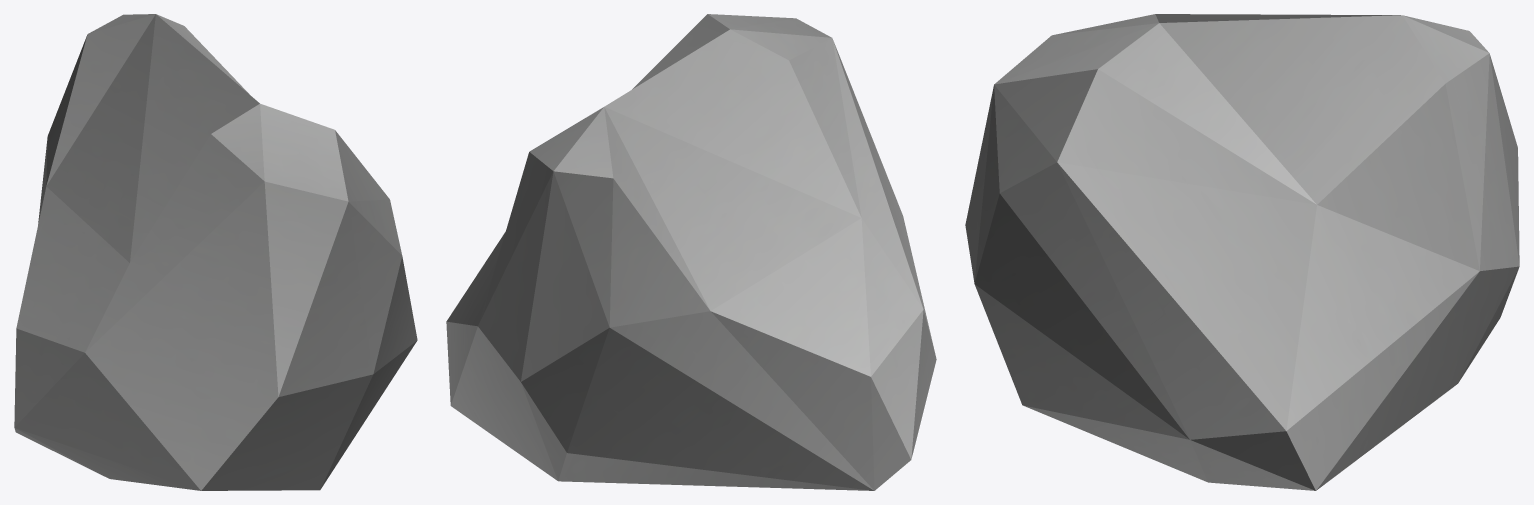
The model's file is Rock_1.fbx.
The picture shows the model from 3 angles, left to right: view 1: azimuth 30°, elevation 25°; view 2: azimuth 150°, elevation 25°; view 3: azimuth 270°, elevation 25°; orthographic projection. The views are drawn at different scales.
Parts seen in each view (by area): view 1: Rock 1; view 2: Rock 1; view 3: Rock 1.
Boxes of the visible parts, x1=… form: Rock 1: x1=14, y1=14, x2=417, y2=490; Rock 1: x1=446, y1=14, x2=936, y2=490; Rock 1: x1=965, y1=14, x2=1519, y2=490.
Size of the model in its own units: 9.44 by 8.8 by 10.08.
